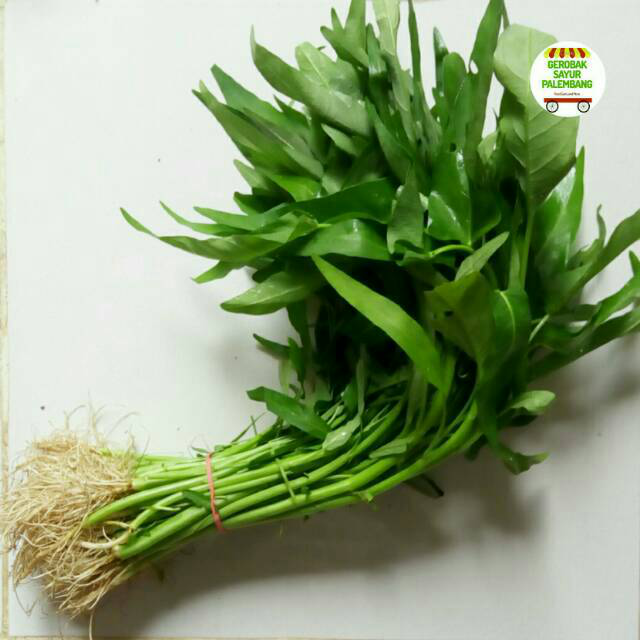Kangkung: (2, 37, 472, 625)
